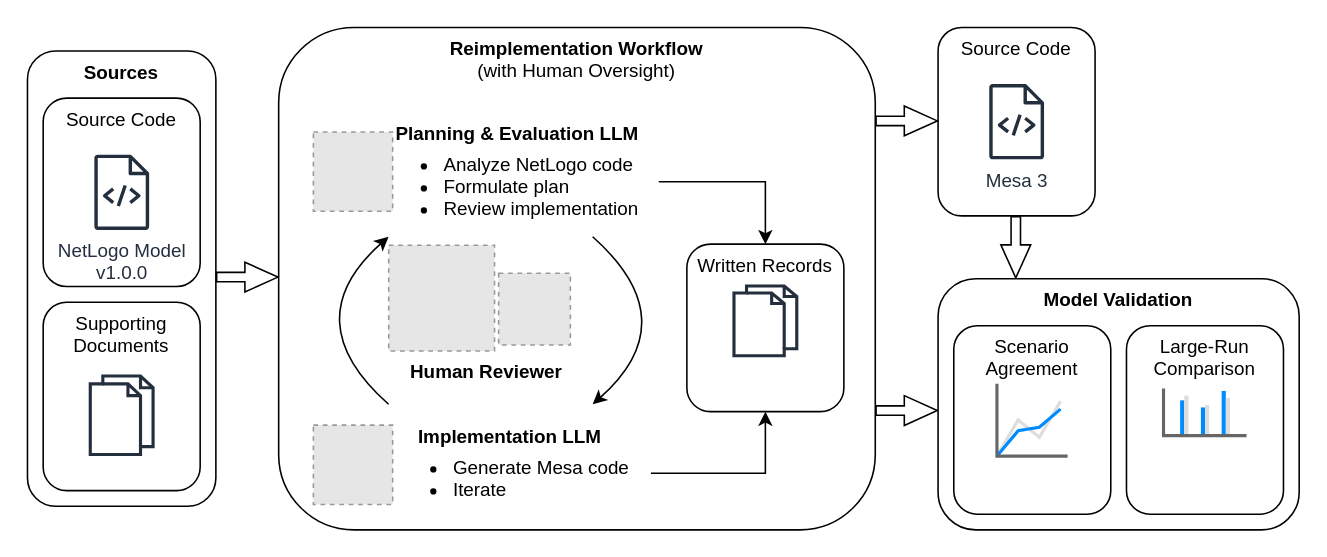
The diagram is 1327 pixels wide and 557 high, and some of its shapes have lost their labels. Grey dashed boxes stand in for pictures. The centre of each missing label's shape, as x and y in pixels:
"Analyze Distribution & Statistics" belongs at pixel 1204 411.
"Match Model Behavior Trends" belongs at pixel 1031 419.
"Paper & ODD" belongs at pixel 121 414.
"Task List Progress Log" belongs at pixel 765 320.
